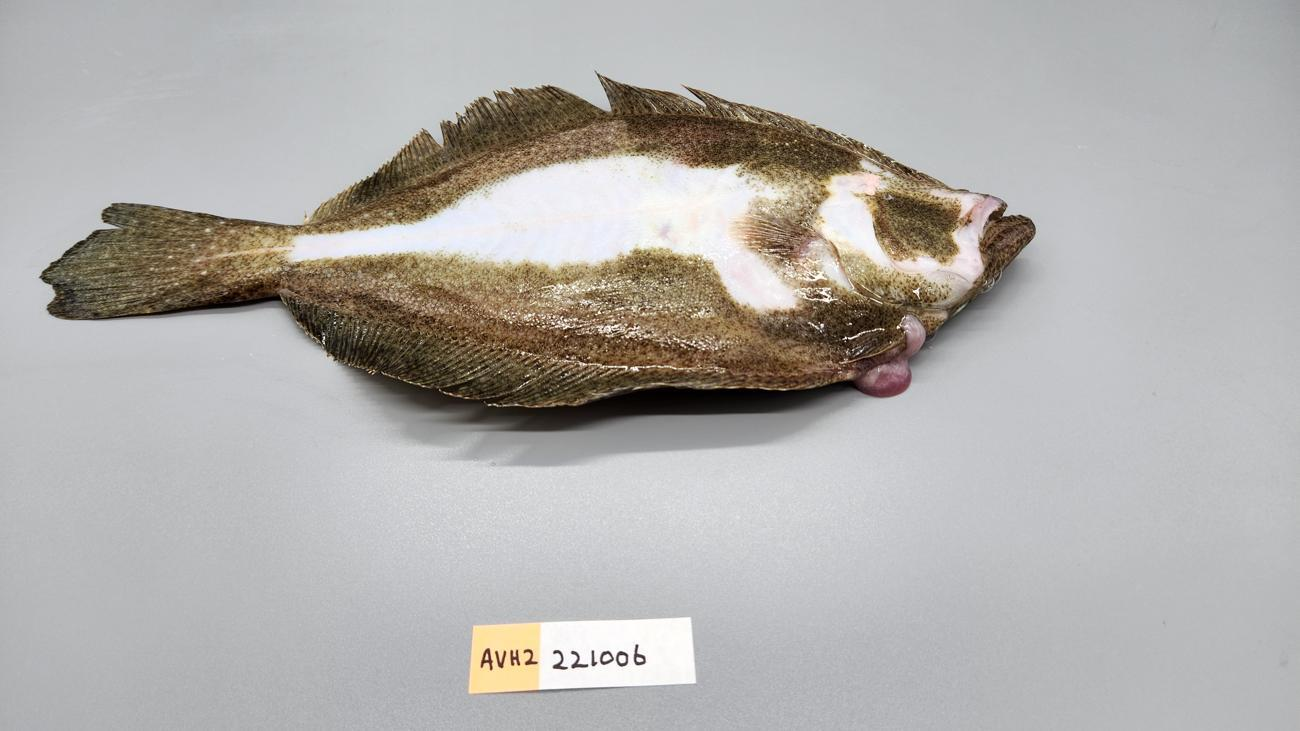VIDYH: (193, 236, 854, 376), (685, 211, 812, 258)
VIOUY: (42, 71, 1036, 411)
